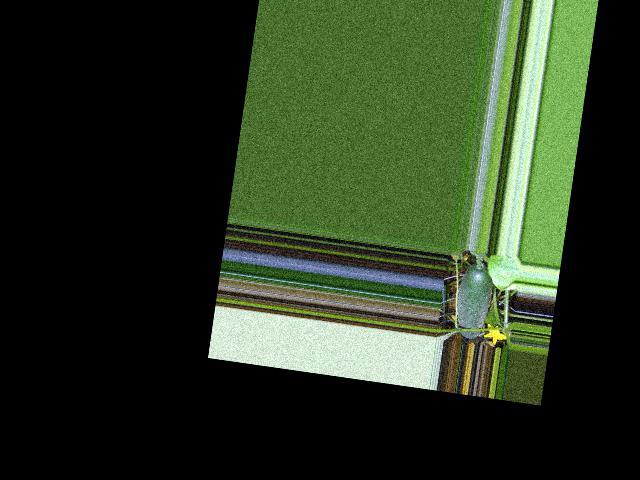cucumber: (452, 259, 495, 339)
